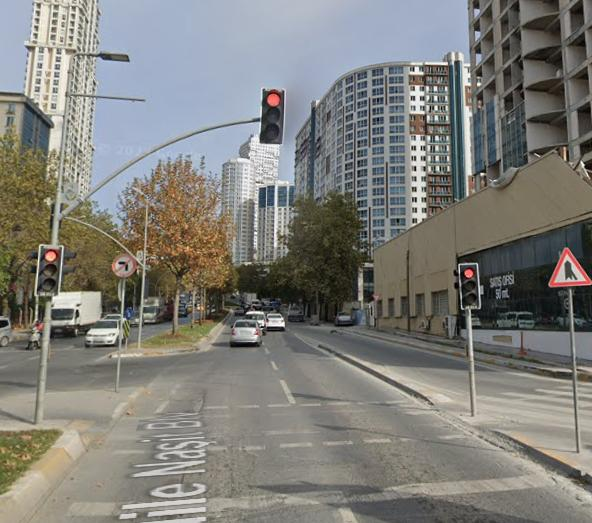leftturnsareforbidden: (112, 253, 137, 277)
redlight: (261, 88, 284, 141), (459, 263, 483, 309), (38, 242, 58, 292)
